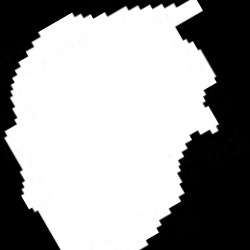spot: (4, 2, 219, 248)
